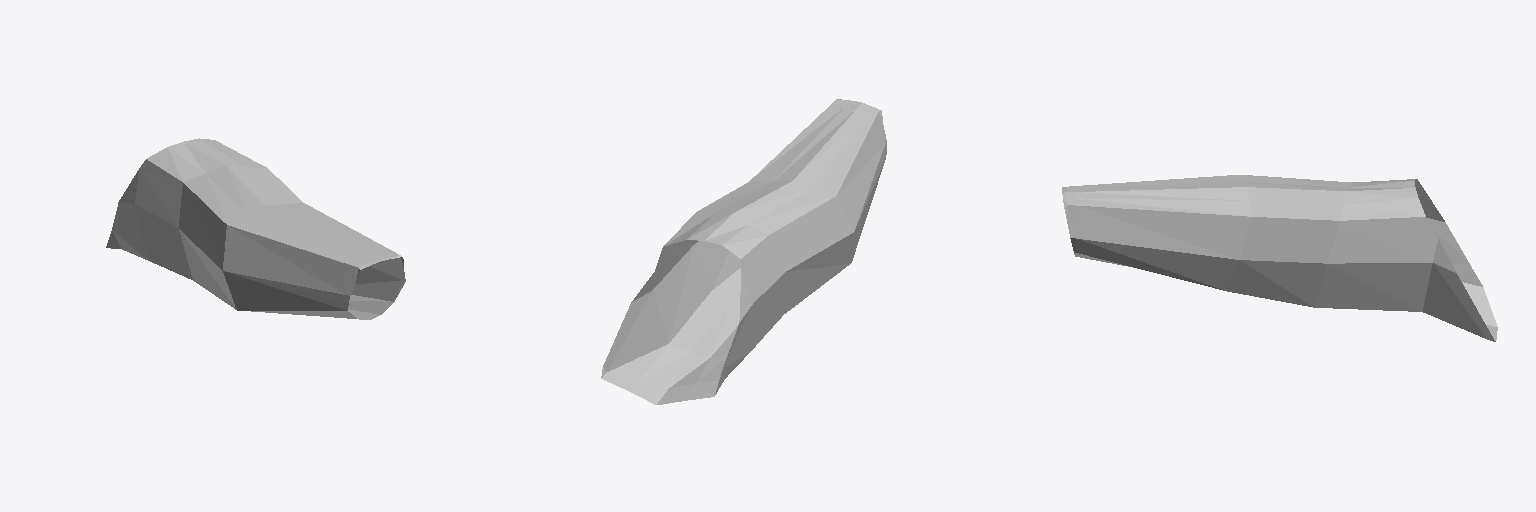
The model's file is Forearm.obj.
3 renders of one model, left to right at view 1: azimuth 30°, elevation 25°; view 2: azimuth 150°, elevation 25°; view 3: azimuth 270°, elevation 25°, orthographic.
Parts seen in each view (by area): view 1: Cube.001; view 2: Cube.001; view 3: Cube.001.
Part boxes in pixels (left/top/right/bottom): Cube.001: left=106, top=138, right=405, bottom=319; Cube.001: left=601, top=99, right=886, bottom=404; Cube.001: left=1062, top=175, right=1497, bottom=341.
Size of the model in its own units: 1.23 by 1.38 by 3.89.